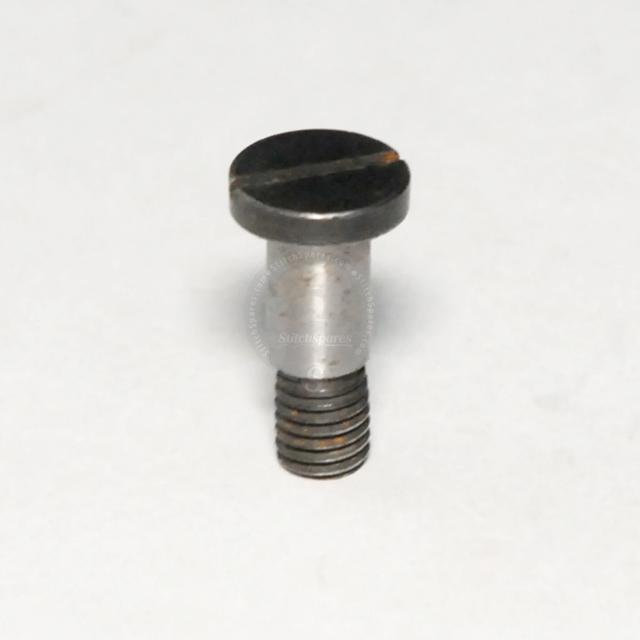duz: (225, 125, 412, 246)
